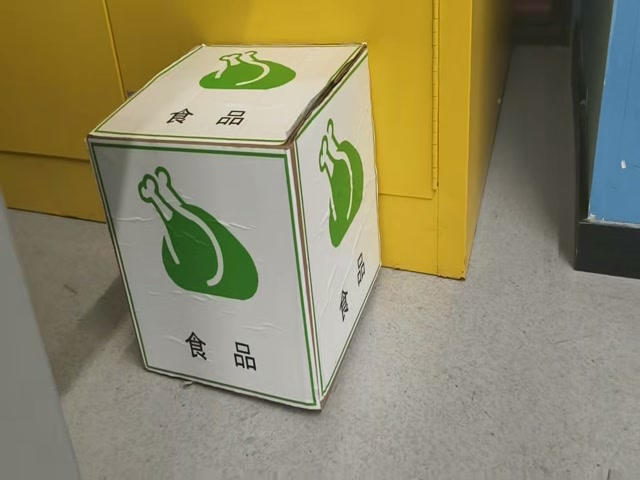Cube_food: (88, 45, 366, 141)
